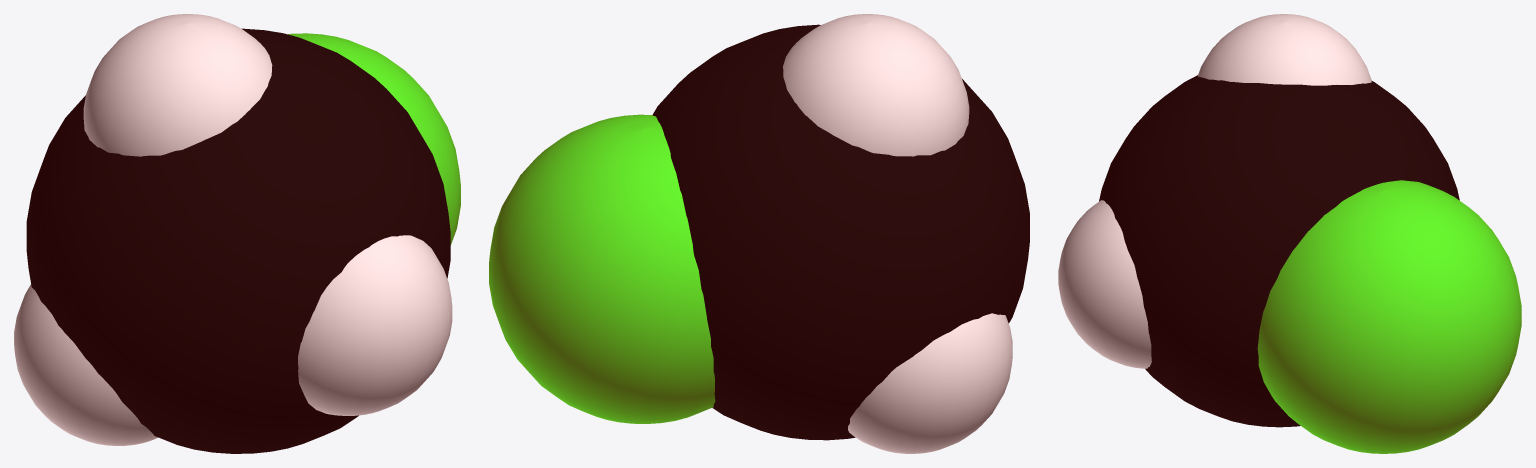
Rendered from Flouromethane_SpheresV3.glb.
3 views of the same model, side by side, from view 1: azimuth 30°, elevation 25°; view 2: azimuth 150°, elevation 25°; view 3: azimuth 270°, elevation 25° (orthographic). The views are drawn at different scales.
Visible parts, largest first — view 1: Carbon_ball.001, Hydrogen_ball.007, Hydrogen_ball.010, Hydrogen_ball.003, Fluorine_ball.001; view 2: Carbon_ball.001, Fluorine_ball.001, Hydrogen_ball.010, Hydrogen_ball.003; view 3: Carbon_ball.001, Fluorine_ball.001, Hydrogen_ball.007, Hydrogen_ball.010.
Part boxes in pixels (box(x1,y1,x2,y2)): Carbon_ball.001: box(26, 28, 450, 453); Hydrogen_ball.007: box(298, 235, 452, 415); Hydrogen_ball.010: box(83, 14, 272, 156); Hydrogen_ball.003: box(14, 284, 158, 445); Fluorine_ball.001: box(288, 33, 460, 245); Carbon_ball.001: box(652, 24, 1029, 440); Fluorine_ball.001: box(489, 114, 715, 423); Hydrogen_ball.010: box(783, 14, 969, 156); Hydrogen_ball.003: box(848, 313, 1012, 453); Carbon_ball.001: box(1099, 75, 1459, 427); Fluorine_ball.001: box(1257, 180, 1521, 453); Hydrogen_ball.007: box(1058, 200, 1151, 368); Hydrogen_ball.010: box(1198, 14, 1371, 85).
Bounding box in the file's own units: 3.61 × 3.17 × 3.63.
